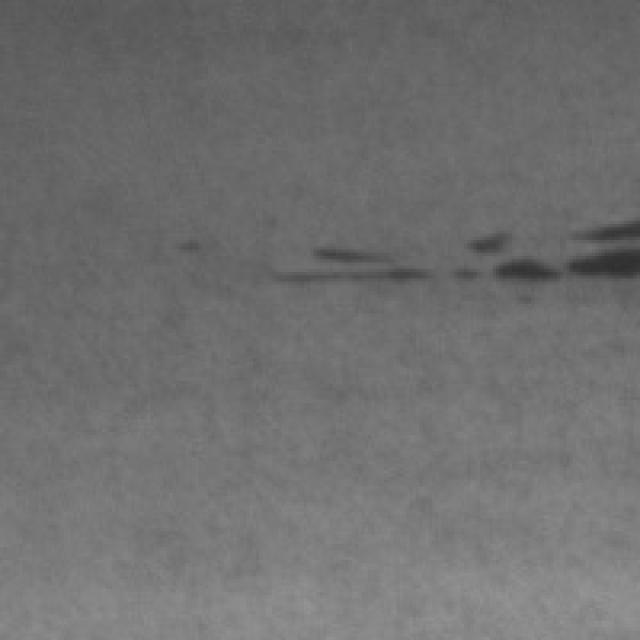inclusion: (253, 202, 640, 294)
